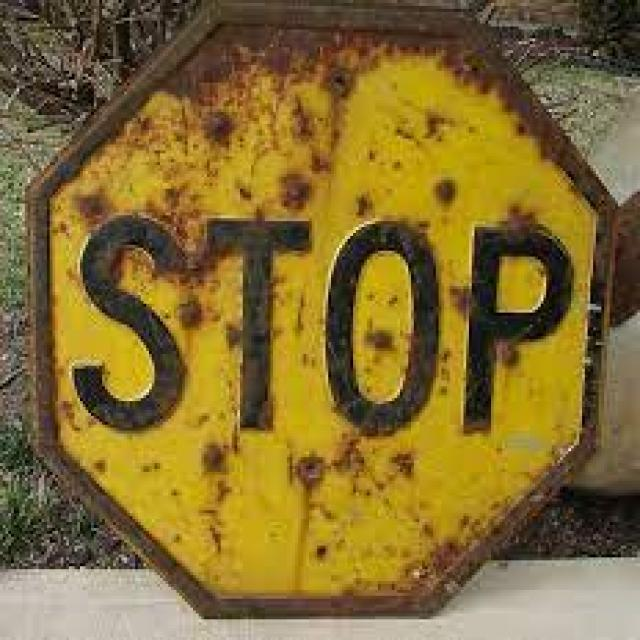stop-sign: (55, 14, 587, 640)
